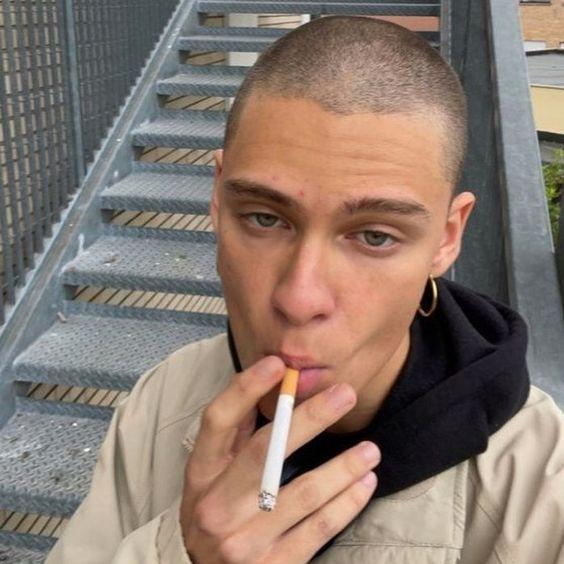cigarette: (258, 368, 300, 511)
